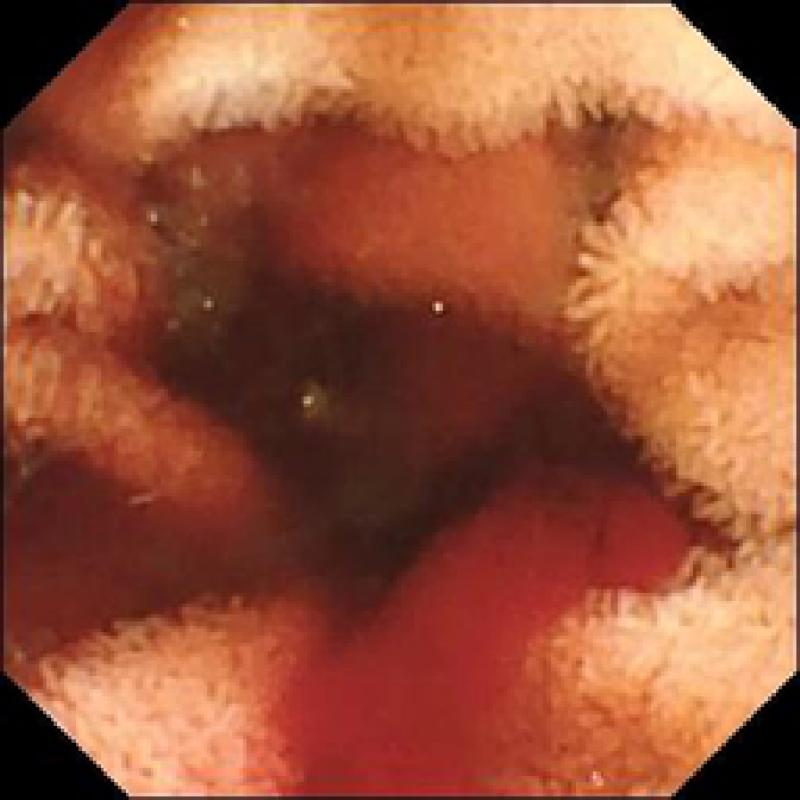bleeding: (310, 453, 689, 800)
